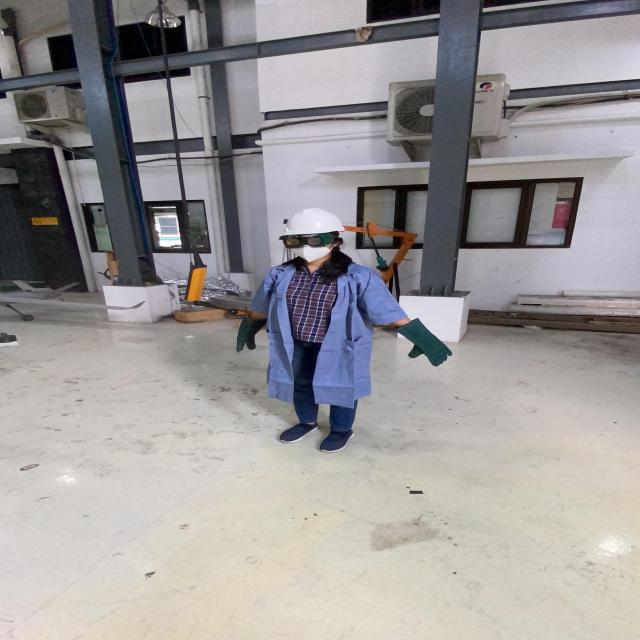glasses: (277, 231, 344, 249)
